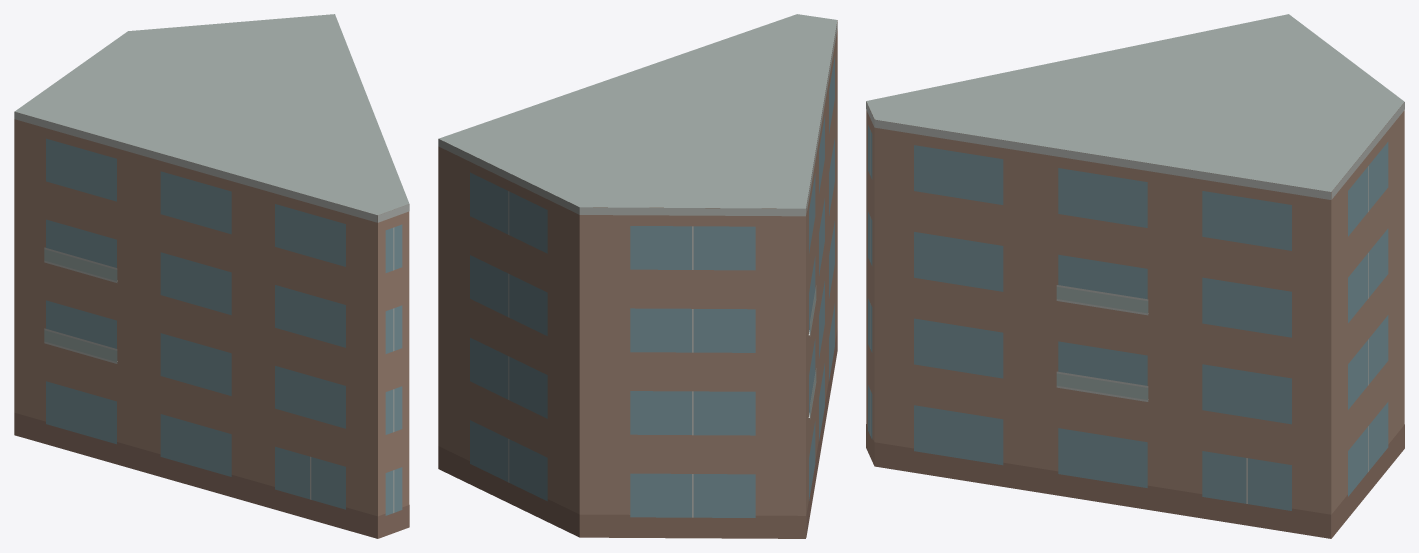
Rendered from survey-upis-32914023.glb.
3 renders of one model, left to right at view 1: azimuth 30°, elevation 25°; view 2: azimuth 150°, elevation 25°; view 3: azimuth 270°, elevation 25°, orthographic. The views are drawn at different scales.
Visible parts, largest first — view 1: survey-upis-32914023.tmp; view 2: survey-upis-32914023.tmp; view 3: survey-upis-32914023.tmp.
Part boxes in pixels (left/top/right/bottom): survey-upis-32914023.tmp: left=14, top=14, right=409, bottom=538; survey-upis-32914023.tmp: left=438, top=14, right=837, bottom=538; survey-upis-32914023.tmp: left=866, top=14, right=1404, bottom=538.
Bounding box in the file's own units: 11.57 × 10.5 × 14.79.
